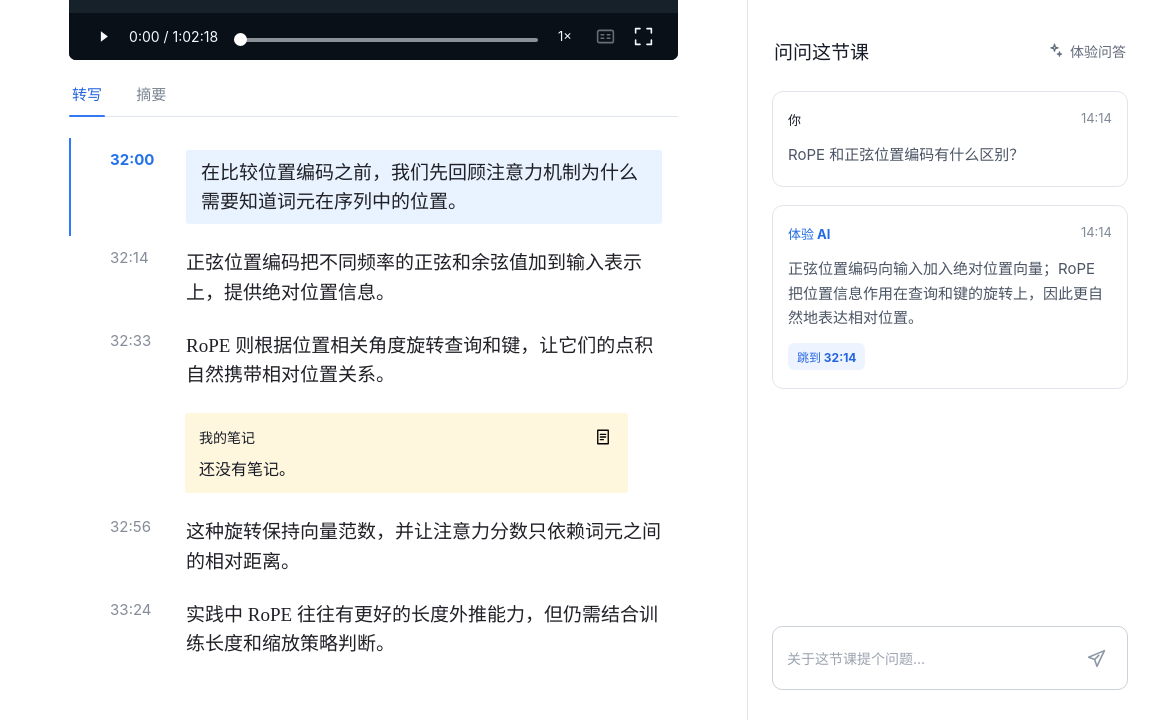
ReaderPage › edits a session-only note
(page scrolled)
Click the button named "编辑笔记".
click(603, 437)  # box [592,426,614,448]
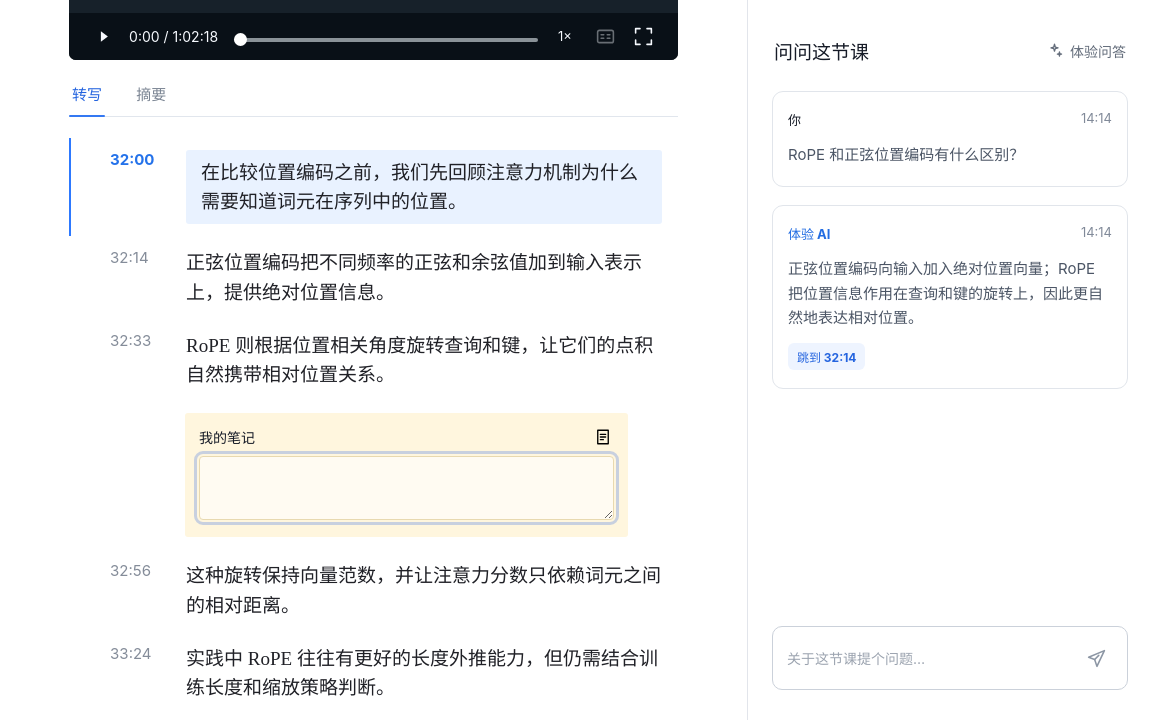
Type "复习相对位置编码" into the text box named "课程笔记".
click(406, 488); type("复习相对位置编码")  # box [199,456,614,520]
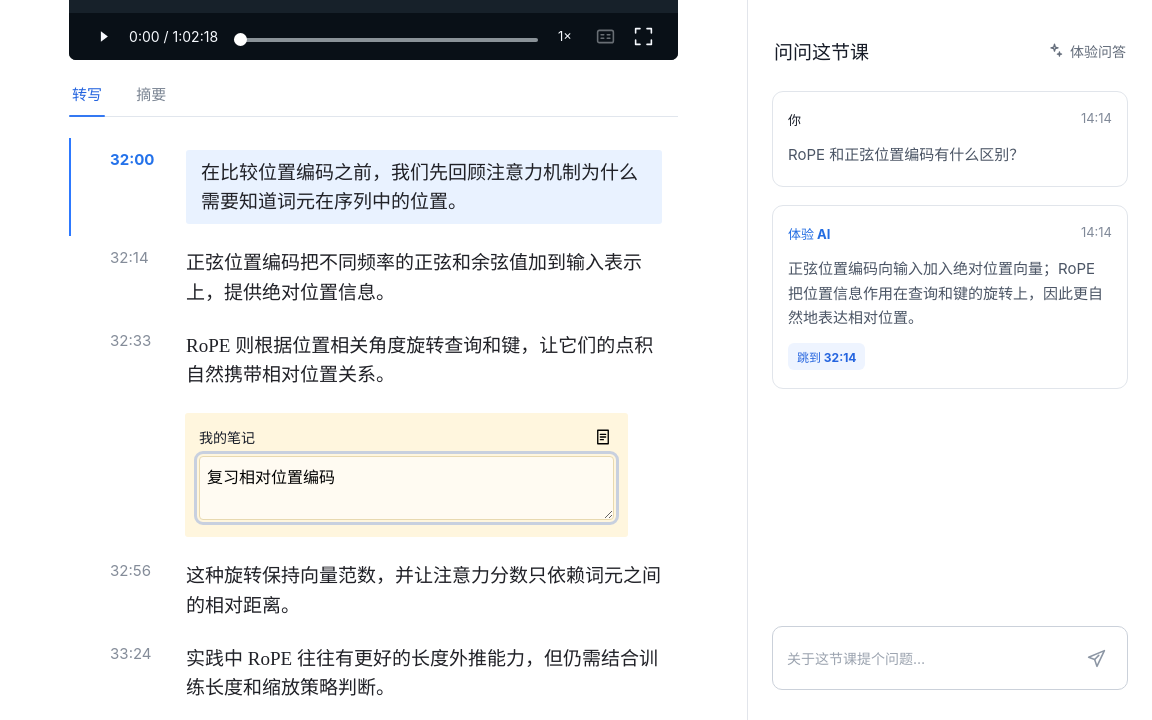
Click the button named "编辑笔记".
click(603, 437)  # box [592,426,614,448]
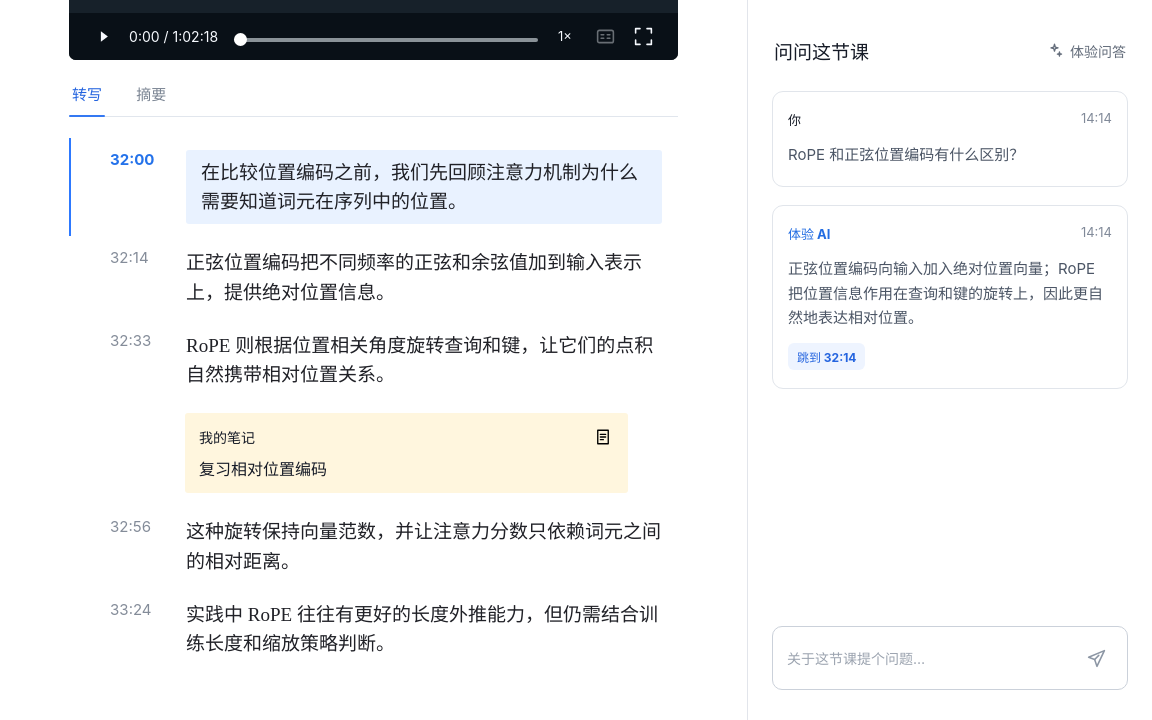
Now the text "复习相对位置编码" is shown, box [199,461,327,478]
